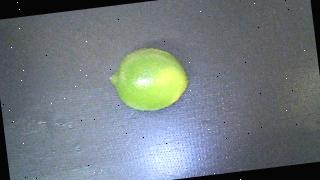EXPORTACION: (107, 44, 191, 115)
